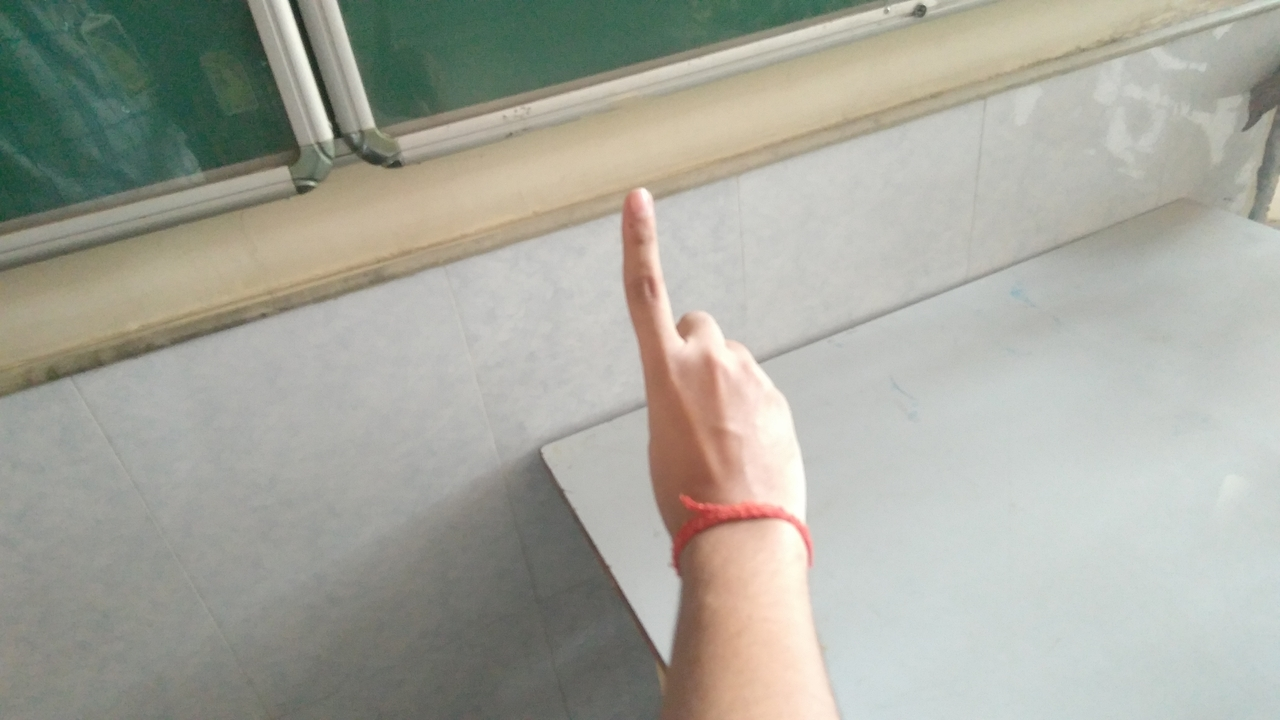fingertip: (614, 172, 666, 222)
